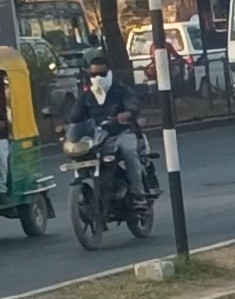BikeWithRider: (38, 53, 168, 252)
NoHelmet: (83, 53, 116, 90)
